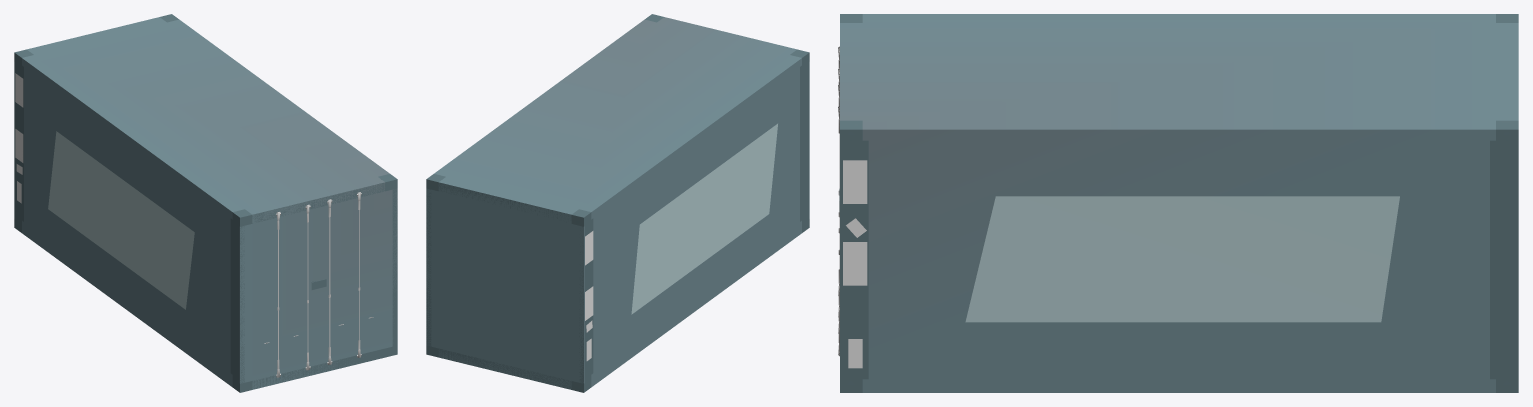
File: s_containers_20_folk.dae
3 renders of one model, left to right at view 1: azimuth 30°, elevation 25°; view 2: azimuth 150°, elevation 25°; view 3: azimuth 270°, elevation 25°, orthographic. The views are drawn at different scales.
Parts seen in each view (by area): view 1: s_containers_20_folk_L20, s_containers_20_folk_L700, s_containers_20_folk_L80, s_containers_20_folk_L300; view 2: s_containers_20_folk_L20, s_containers_20_folk_L700, s_containers_20_folk_L80, s_containers_20_folk_L300; view 3: s_containers_20_folk_L20, s_containers_20_folk_L700, s_containers_20_folk_L300, s_containers_20_folk_L80.
Boxes of the visible parts, left/top/right/bottom form: s_containers_20_folk_L20: left=14, top=17, right=397, bottom=389; s_containers_20_folk_L700: left=14, top=14, right=397, bottom=392; s_containers_20_folk_L80: left=240, top=182, right=397, bottom=389; s_containers_20_folk_L300: left=14, top=14, right=397, bottom=392; s_containers_20_folk_L20: left=426, top=17, right=809, bottom=389; s_containers_20_folk_L700: left=426, top=14, right=809, bottom=392; s_containers_20_folk_L80: left=426, top=182, right=583, bottom=389; s_containers_20_folk_L300: left=426, top=14, right=809, bottom=392; s_containers_20_folk_L20: left=840, top=14, right=1518, bottom=392; s_containers_20_folk_L700: left=838, top=14, right=1518, bottom=392; s_containers_20_folk_L300: left=839, top=14, right=1518, bottom=392; s_containers_20_folk_L80: left=840, top=143, right=1518, bottom=392.
Bounding box in the file's own units: 2.65 × 6.07 × 2.6.
